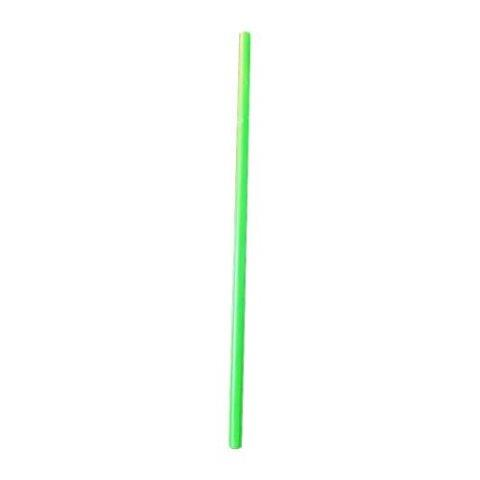sedotan: (230, 33, 250, 449)
